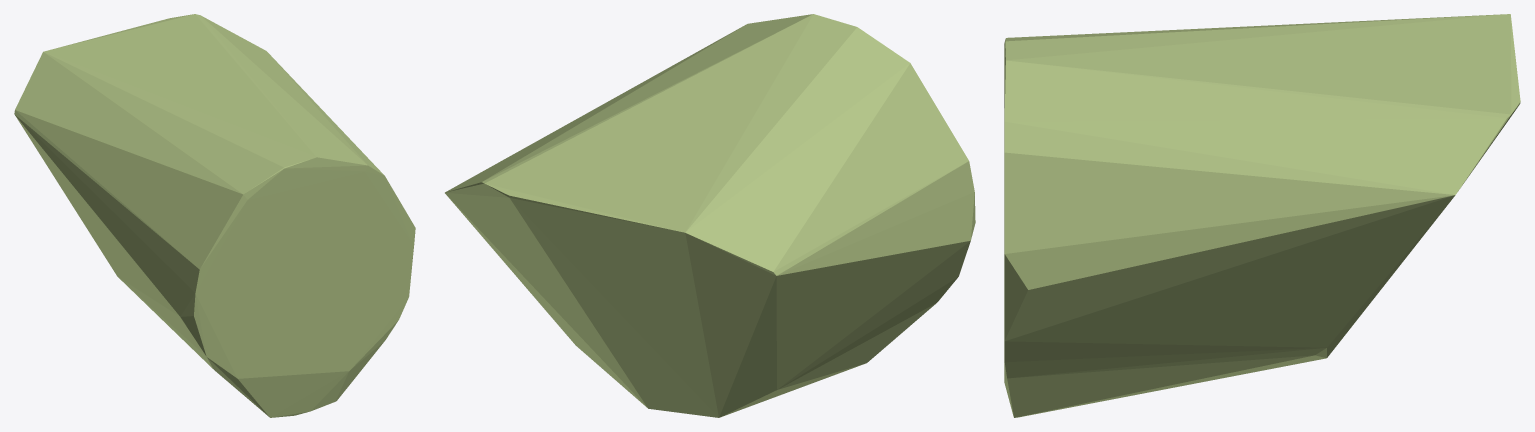
Rendered from bucket_utility_gray_a02.glb.
3 renders of one model, left to right at view 1: azimuth 30°, elevation 25°; view 2: azimuth 150°, elevation 25°; view 3: azimuth 270°, elevation 25°, orthographic. The views are drawn at different scales.
Visible parts, largest first — view 1: geometry_0; view 2: geometry_0; view 3: geometry_0.
Part boxes in pixels (x1=…): geometry_0: x1=14, y1=14, x2=415, y2=417; geometry_0: x1=445, y1=14, x2=975, y2=417; geometry_0: x1=1004, y1=14, x2=1520, y2=417.
Bounding box in the file's own units: 0.3683 × 0.3575 × 0.4799.
